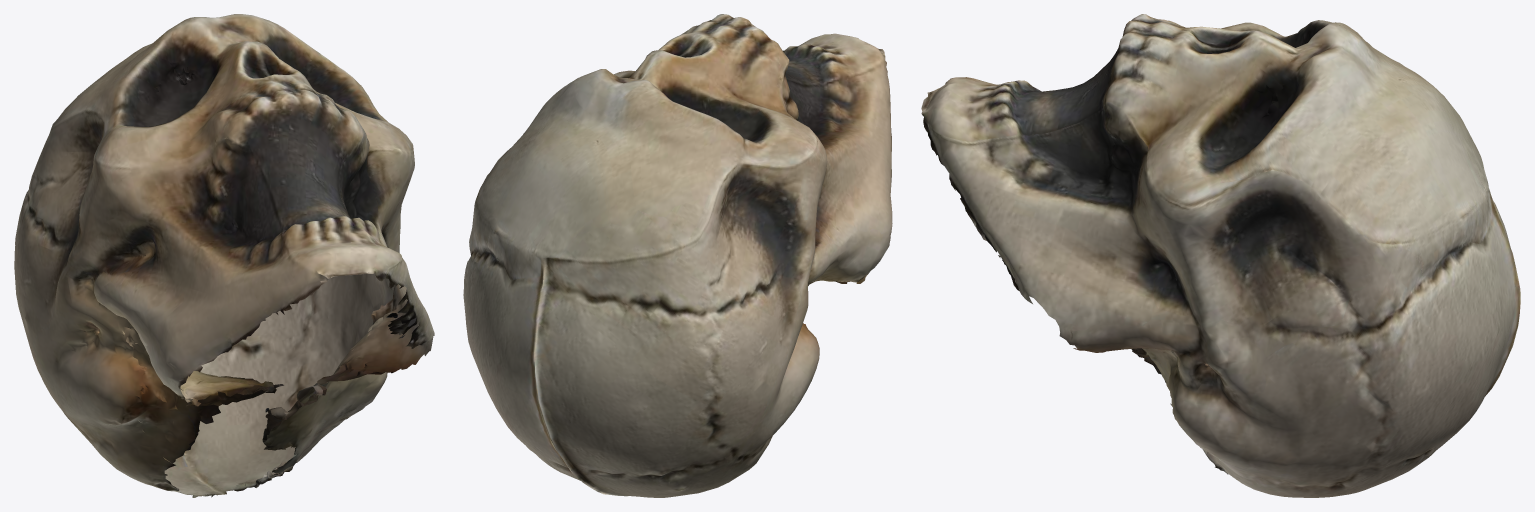
File: skull_laugh.glb
The picture shows the model from 3 angles, left to right: view 1: azimuth 30°, elevation 25°; view 2: azimuth 150°, elevation 25°; view 3: azimuth 270°, elevation 25°; orthographic projection. The views are drawn at different scales.
Visible parts, largest first — view 1: mat-0; view 2: mat-0; view 3: mat-0.
Boxes of the visible parts, box(x1,y1,x2,y2) form: mat-0: box(14, 14, 434, 497); mat-0: box(463, 14, 892, 497); mat-0: box(921, 14, 1520, 497).
Bounding box in the file's own units: 1.92 × 2.57 × 3.05.
1 material, 1 textured.
